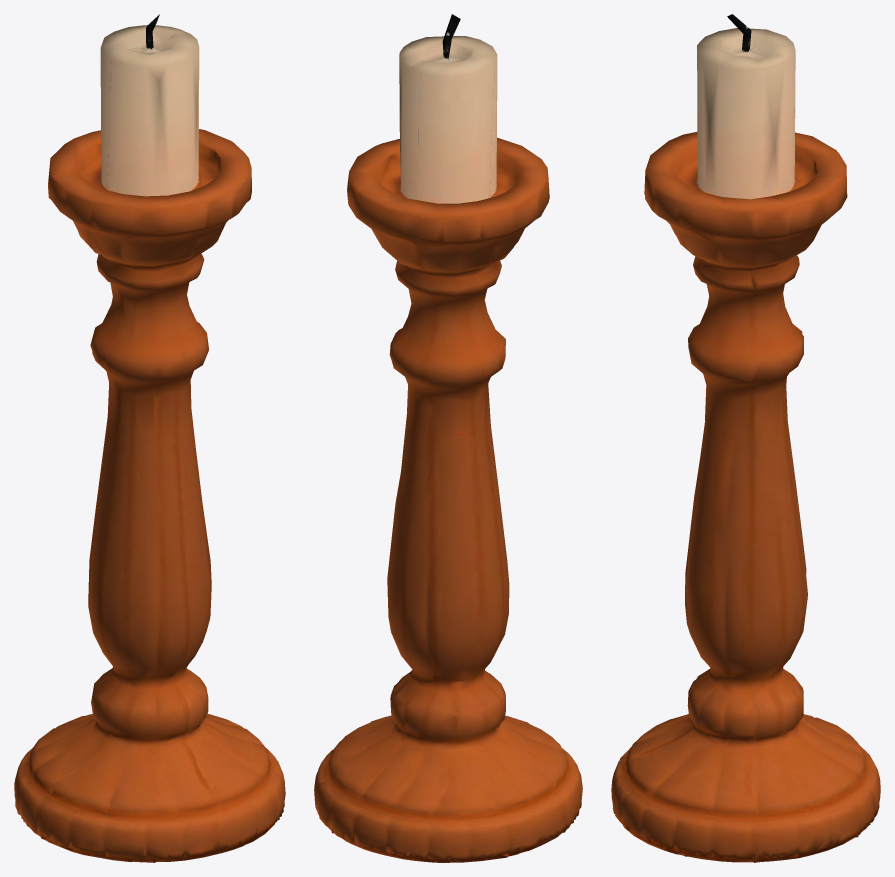
Rendered from stehleuchter_wald_a.glb.
The picture shows the model from 3 angles, left to right: view 1: azimuth 30°, elevation 25°; view 2: azimuth 150°, elevation 25°; view 3: azimuth 270°, elevation 25°; orthographic projection.
Visible parts, largest first — view 1: tripo_node_c6f2e314-ff7d-4191-be14-a3442b5d5b9f; view 2: tripo_node_c6f2e314-ff7d-4191-be14-a3442b5d5b9f; view 3: tripo_node_c6f2e314-ff7d-4191-be14-a3442b5d5b9f.
Part boxes in pixels (x1=…): tripo_node_c6f2e314-ff7d-4191-be14-a3442b5d5b9f: x1=14, y1=14, x2=285, y2=862; tripo_node_c6f2e314-ff7d-4191-be14-a3442b5d5b9f: x1=314, y1=14, x2=582, y2=862; tripo_node_c6f2e314-ff7d-4191-be14-a3442b5d5b9f: x1=611, y1=14, x2=880, y2=862.
Size of the model in its own units: 0.3072 by 0.9998 by 0.307.
1 material, 1 textured.
